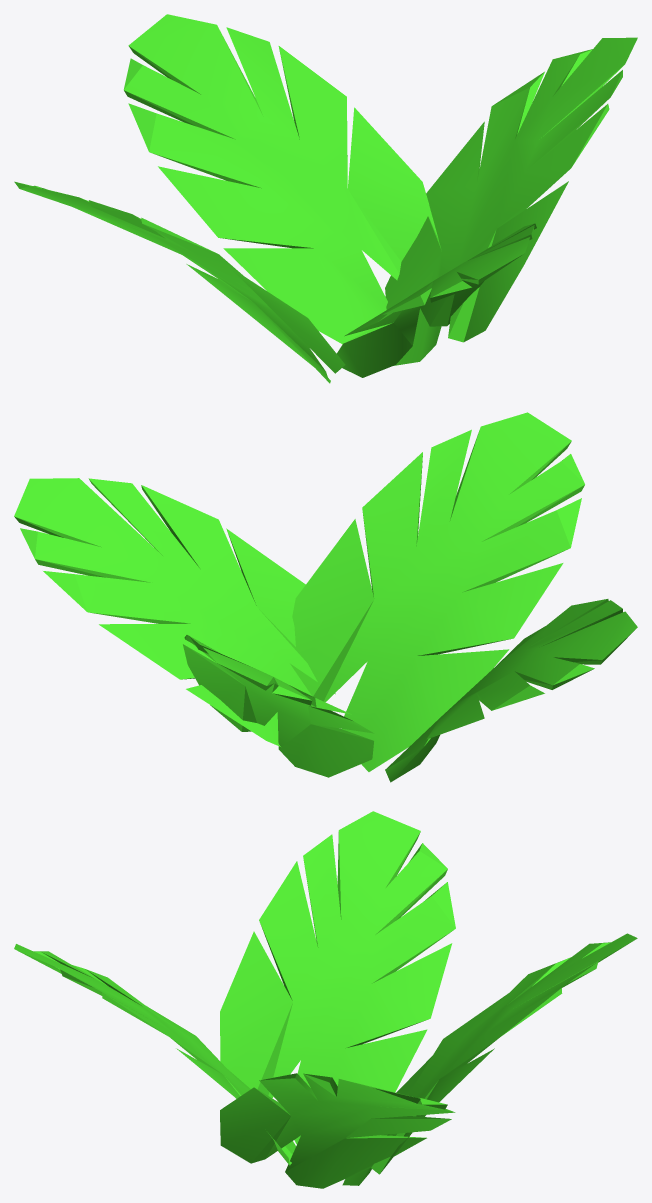
Rendered from Gr-feuilles3.FBX.
3 renders of one model, top to bottom at view 1: azimuth 30°, elevation 25°; view 2: azimuth 150°, elevation 25°; view 3: azimuth 270°, elevation 25°, orthographic. The views are drawn at different scales.
Parts seen in each view (by area): view 1: feuille011, feuille010, feuille004, feuille012; view 2: feuille012, feuille010, feuille004, feuille011; view 3: feuille004, feuille010, feuille011, feuille012.
Boxes of the visible parts, bbox=[...] form: feuille011: bbox=[123, 14, 438, 344]; feuille010: bbox=[385, 37, 637, 365]; feuille004: bbox=[14, 181, 345, 383]; feuille012: bbox=[336, 223, 536, 377]; feuille012: bbox=[290, 412, 584, 771]; feuille010: bbox=[14, 478, 335, 746]; feuille004: bbox=[385, 599, 637, 782]; feuille011: bbox=[183, 635, 374, 777]; feuille004: bbox=[220, 811, 455, 1144]; feuille010: bbox=[220, 1073, 455, 1188]; feuille011: bbox=[342, 933, 637, 1185]; feuille012: bbox=[14, 944, 295, 1165].
Size of the model in its own units: 22.24 by 8.46 by 21.18.
